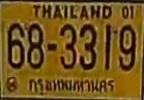1: (104, 24, 110, 70), (104, 24, 110, 68)
3: (79, 23, 96, 69), (59, 24, 76, 68)
6: (7, 22, 24, 68)
8: (27, 23, 43, 68)
9: (118, 24, 135, 70)
BKK: (28, 76, 118, 98)
